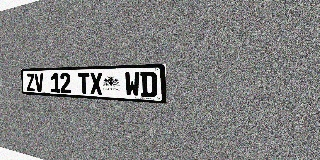plate: (21, 64, 166, 104)
